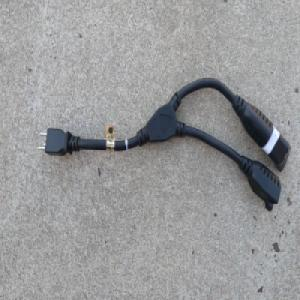Wire: (37, 77, 291, 212)
